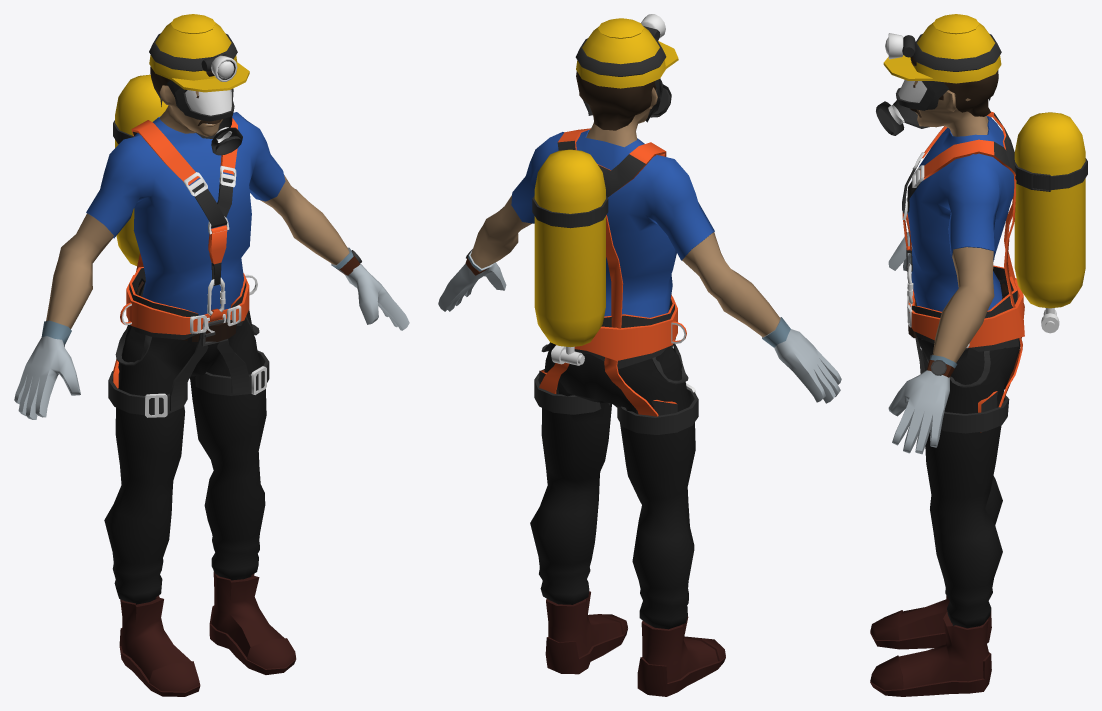
File: Personagem.fbx
3 views of the same model, side by side, from view 1: azimuth 30°, elevation 25°; view 2: azimuth 150°, elevation 25°; view 3: azimuth 270°, elevation 25° (orthographic). The views are drawn at different scales.
Parts seen in each view (by area): view 1: Personagem, Cinto de Seguranca, Lucas, Capacete, Cilindro de Oxigenio, Mascara de Oxigenio; view 2: Personagem, Cilindro de Oxigenio, Cinto de Seguranca, Capacete, Lucas; view 3: Personagem, Cilindro de Oxigenio, Cinto de Seguranca, Capacete, Lucas, Mascara de Oxigenio.
Part boxes in pixels (left/top/right/bottom): Personagem: left=46, top=66, right=361, bottom=696; Cinto de Seguranca: left=108, top=118, right=269, bottom=417; Lucas: left=14, top=247, right=409, bottom=419; Capacete: left=149, top=14, right=249, bottom=92; Cilindro de Oxigenio: left=113, top=74, right=168, bottom=265; Mascara de Oxigenio: left=154, top=80, right=242, bottom=155; Personagem: left=465, top=71, right=780, bottom=696; Cilindro de Oxigenio: left=532, top=149, right=608, bottom=365; Cinto de Seguranca: left=534, top=128, right=698, bottom=434; Capacete: left=575, top=14, right=678, bottom=88; Lucas: left=438, top=251, right=841, bottom=403; Personagem: left=870, top=56, right=1021, bottom=696; Cilindro de Oxigenio: left=1014, top=112, right=1087, bottom=333; Cinto de Seguranca: left=902, top=111, right=1024, bottom=433; Capacete: left=883, top=14, right=1001, bottom=83; Lucas: left=888, top=232, right=957, bottom=454; Mascara de Oxigenio: left=876, top=80, right=990, bottom=135.
Size of the model in its own units: 119 by 190 by 58.02.
